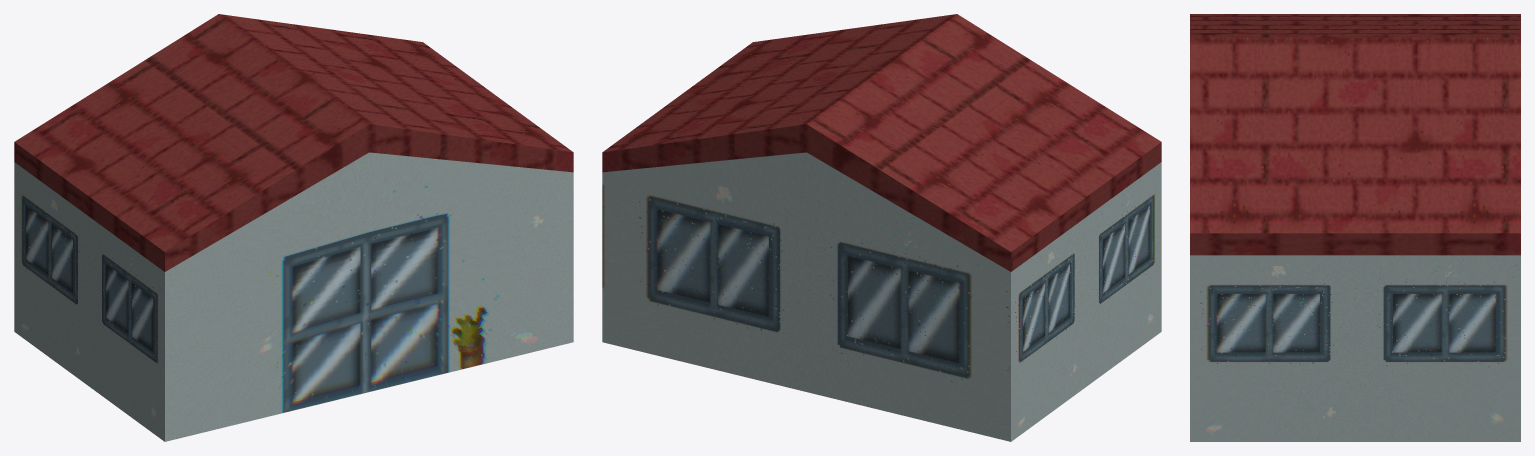
File: house.fbx
3 renders of one model, left to right at view 1: azimuth 30°, elevation 25°; view 2: azimuth 150°, elevation 25°; view 3: azimuth 270°, elevation 25°, orthographic. The views are drawn at different scales.
Visible parts, largest first — view 1: Cube.013; view 2: Cube.013; view 3: Cube.013.
Boxes of the visible parts, bbox=[...] form: Cube.013: bbox=[14, 14, 573, 441]; Cube.013: bbox=[602, 14, 1161, 441]; Cube.013: bbox=[1190, 14, 1520, 441].
Bounding box in the file's own units: 1878 × 1177 × 1198.
3 materials, 3 textured.
